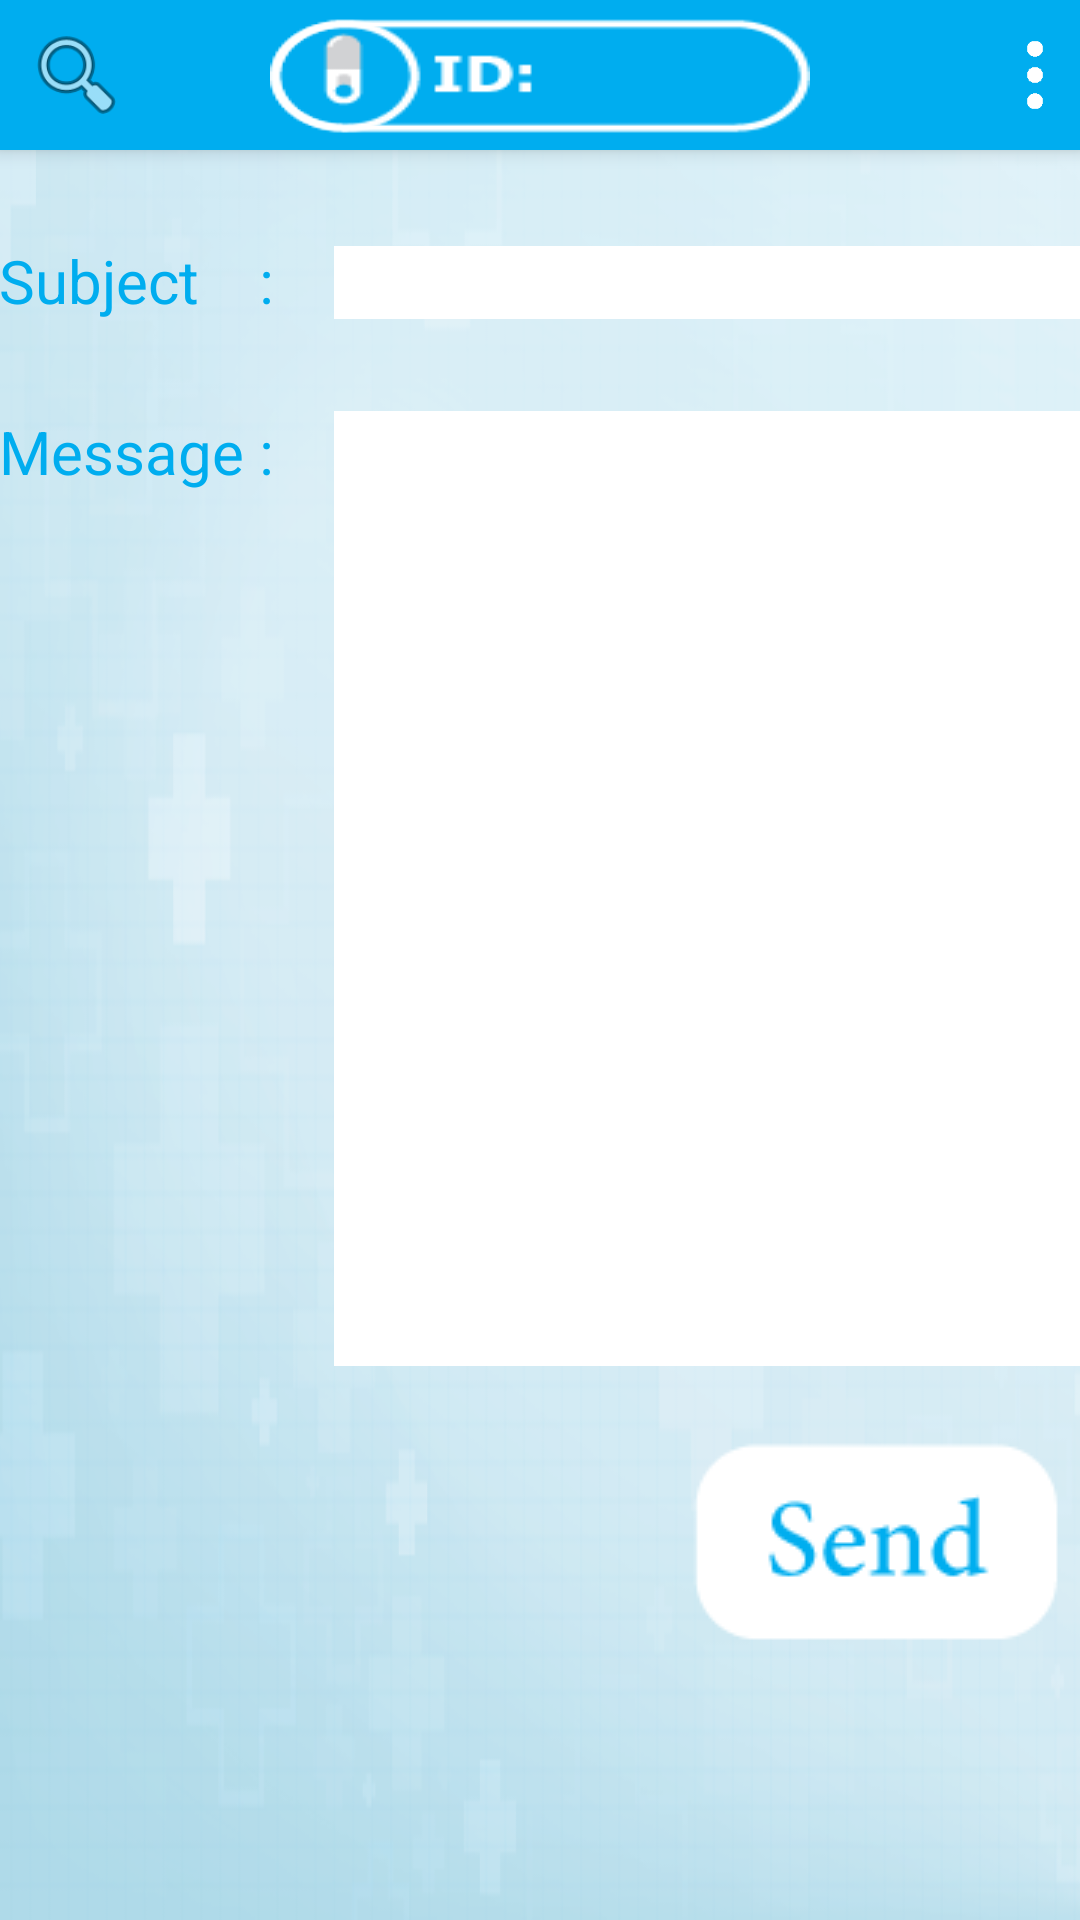

Screen size 1080 x 1920. Icon name, then its center in pixels as (x=x, y=y):
menu: (x=1035, y=75)
search: (x=76, y=75)
